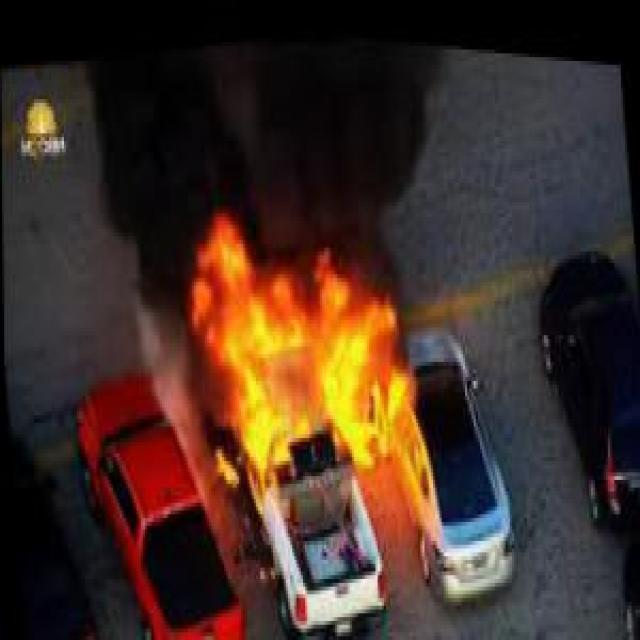Fire: (177, 172, 408, 506)
Smoke: (77, 8, 454, 260)
